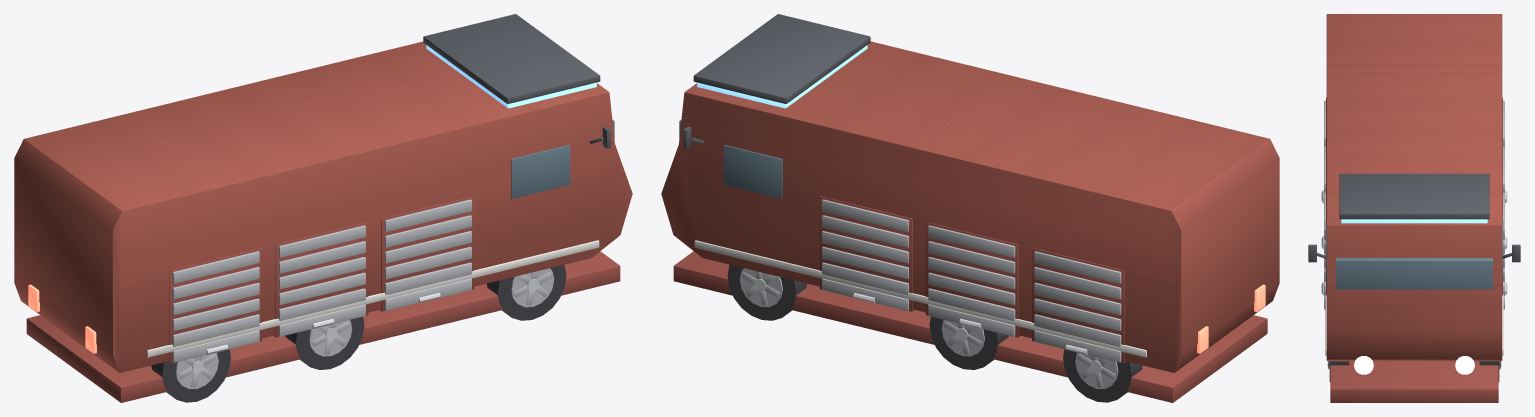
File: th43_loeschfahrzeug.glb
The picture shows the model from 3 angles, left to right: view 1: azimuth 30°, elevation 25°; view 2: azimuth 150°, elevation 25°; view 3: azimuth 270°, elevation 25°; orthographic projection. The views are drawn at different scales.
Visible parts, largest first — view 1: Aufbau, Cube, Cube.050, Cube.057, Cube.002, Cube.013, Cube.020, Cube.006, Cylinder.023, Cylinder.047, Cylinder.035, Cube.011 (+21 smaller); view 2: Aufbau, Cube, Cube.050, Cube.057, Cube.004, Cube.034, Cube.041, Cube.027, Cylinder.029, Cylinder.053, Cylinder.041, Cube.031 (+21 smaller); view 3: Aufbau, Cube.050, Cube, Cube.001, Cube.049, Cylinder.019, Cylinder.020, Cube.057.
Part boxes in pixels (left/top/right/bottom): Aufbau: left=14, top=41, right=632, bottom=372; Cube: left=26, top=251, right=620, bottom=402; Cube.050: left=423, top=14, right=600, bottom=103; Cube.057: left=147, top=240, right=599, bottom=357; Cube.002: left=511, top=145, right=570, bottom=198; Cube.013: left=273, top=222, right=368, bottom=337; Cube.020: left=380, top=196, right=474, bottom=311; Cube.006: left=167, top=248, right=261, bottom=363; Cylinder.023: left=487, top=264, right=566, bottom=320; Cylinder.047: left=151, top=349, right=230, bottom=402; Cylinder.035: left=285, top=316, right=364, bottom=369; Cube.011: left=172, top=267, right=259, bottom=299; Aufbau: left=661, top=41, right=1279, bottom=372; Cube: left=673, top=251, right=1267, bottom=402; Cube.050: left=693, top=14, right=870, bottom=103; Cube.057: left=694, top=240, right=1146, bottom=357; Cube.004: left=723, top=145, right=782, bottom=198; Cube.034: left=925, top=222, right=1020, bottom=337; Cube.041: left=819, top=196, right=914, bottom=311; Cube.027: left=1032, top=248, right=1126, bottom=363; Cylinder.029: left=727, top=264, right=806, bottom=320; Cylinder.053: left=1063, top=349, right=1142, bottom=402; Cylinder.041: left=929, top=316, right=1008, bottom=369; Cube.031: left=1034, top=282, right=1121, bottom=315; Aufbau: left=1326, top=14, right=1502, bottom=361; Cube.050: left=1339, top=173, right=1489, bottom=219; Cube: left=1330, top=361, right=1498, bottom=402; Cube.001: left=1336, top=258, right=1492, bottom=289; Cube.049: left=1341, top=219, right=1487, bottom=223; Cylinder.019: left=1354, top=356, right=1373, bottom=374; Cylinder.020: left=1455, top=356, right=1474, bottom=374; Cube.057: left=1325, top=294, right=1503, bottom=355.
Size of the model in its own units: 7.67 by 3.1 by 3.02.
Materials: 12 (1 with a texture image).
